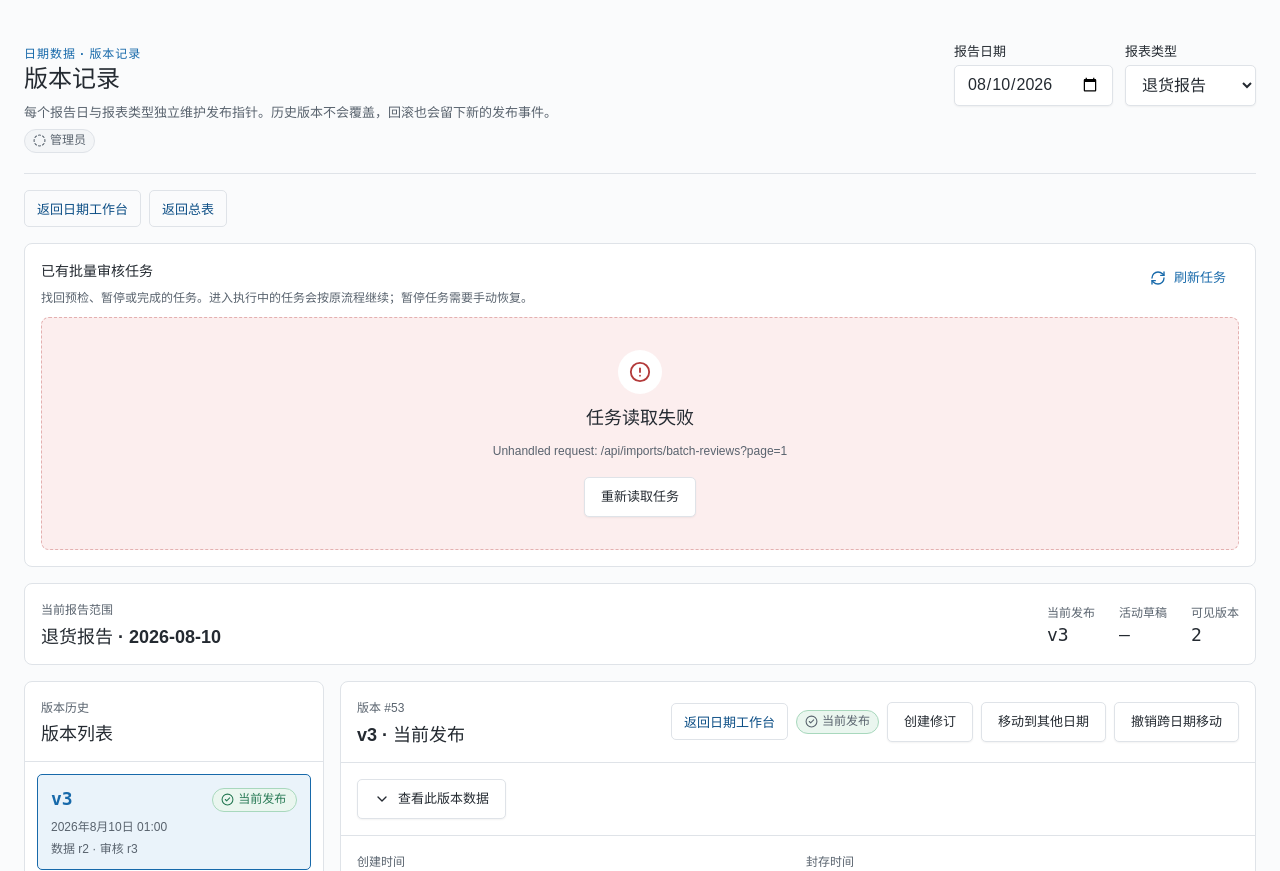
VersionHistory › waits for ready return undo staging and reuses the staging token for the final command
Click the button "撤销跨日期移动". click: (1176, 722)
box: [1114,702,1239,742]
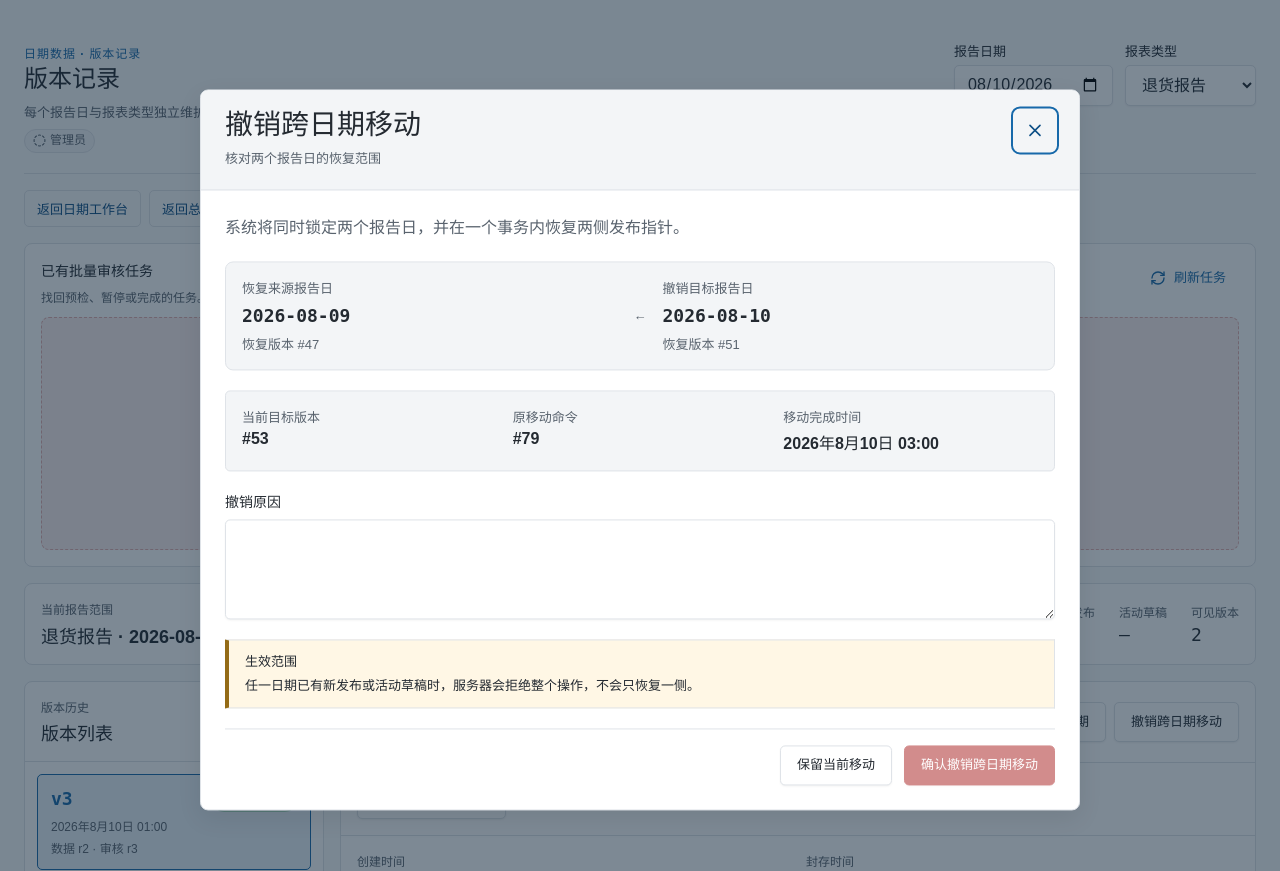
Type "恢复退货移动前的两侧发布指针" into the text box labelled "撤销原因". click: (640, 570)
box: [225,520,1055,620]
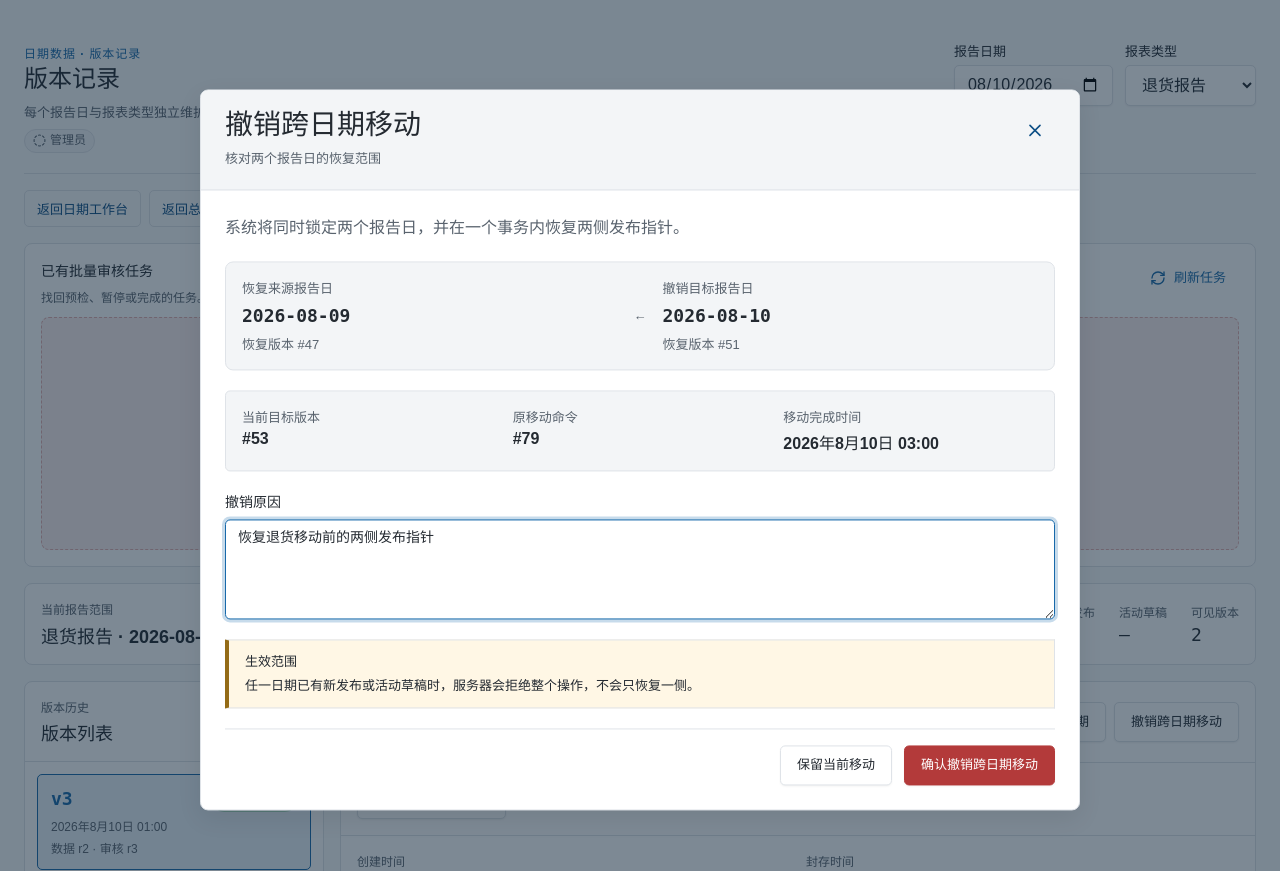
Click the button "确认撤销跨日期移动". click: (980, 766)
box: [904,746,1055,786]
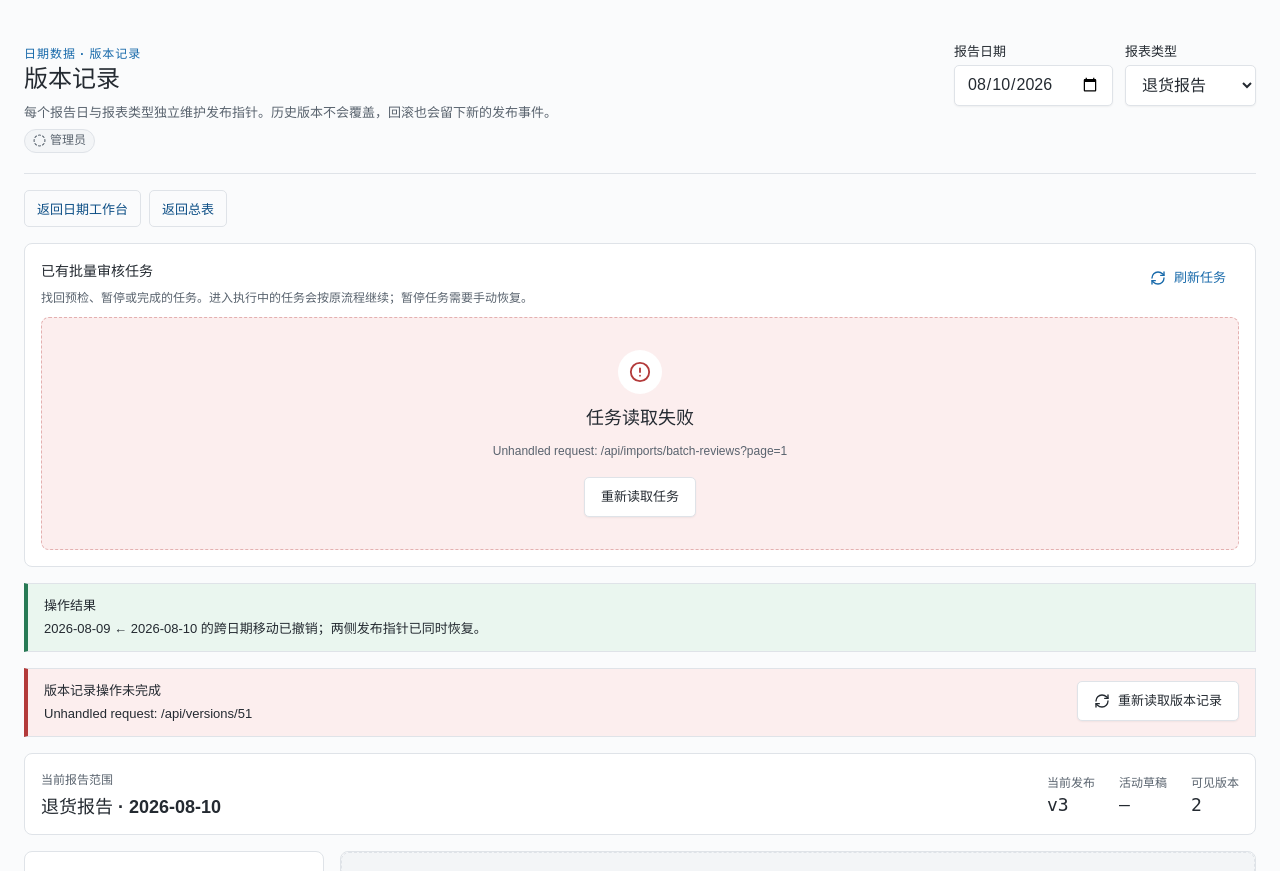
Now the text "2026-08-09 ← 2026-08-10 的跨日期移动已撤销；两侧发布指针已同时恢复。" is shown, box [44,619,487,639]
